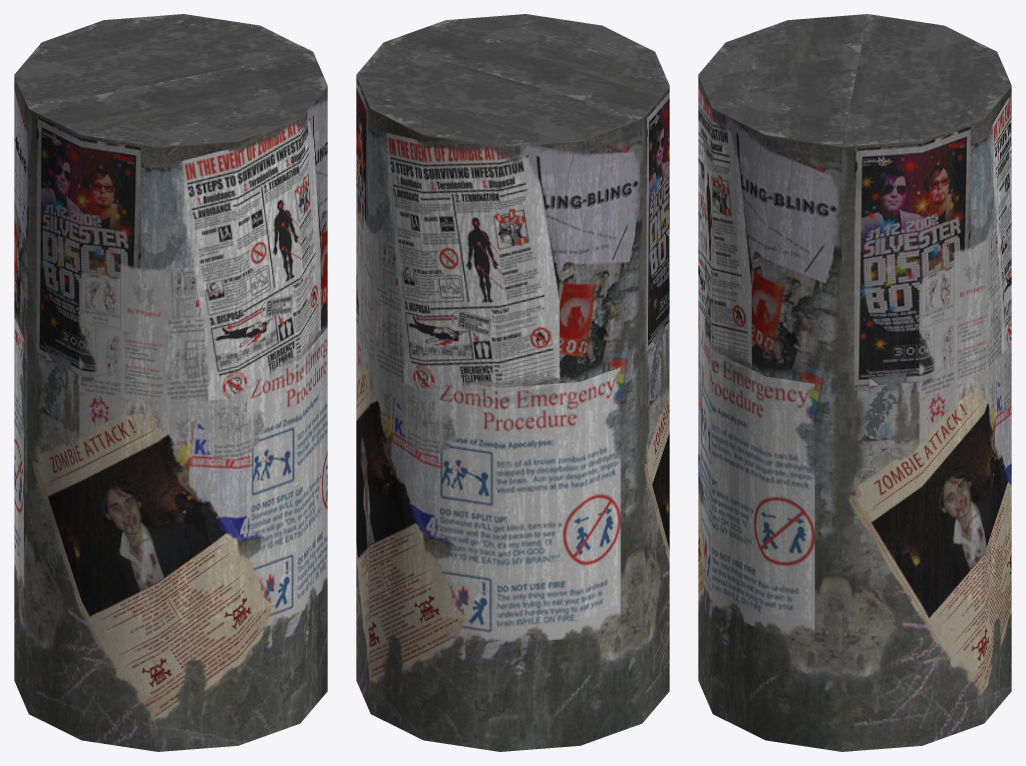
The model's file is litfass.obj.
The picture shows the model from 3 angles, left to right: view 1: azimuth 30°, elevation 25°; view 2: azimuth 150°, elevation 25°; view 3: azimuth 270°, elevation 25°; orthographic projection.
Parts seen in each view (by area): view 1: Misc litfass polySurface1; view 2: Misc litfass polySurface1; view 3: Misc litfass polySurface1.
Boxes of the visible parts, <box> form: Misc litfass polySurface1: <box>14,14,327,751</box>; Misc litfass polySurface1: <box>356,14,669,751</box>; Misc litfass polySurface1: <box>698,14,1011,751</box>.
Bounding box in the file's own units: 0.6812 × 1.45 × 0.6812.
1 material, 1 textured.
